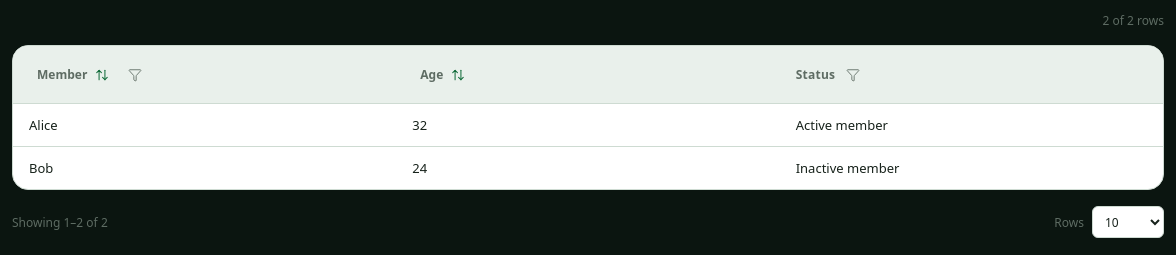
Test: DataTable › opens, closes, and clears a text filter from its header
This screenshot has width=1176, height=255.
Check: the search field labelled "Filter Member" is not shown
Click the button named "Open filter for Member": (135, 74) [121,60,149,88]
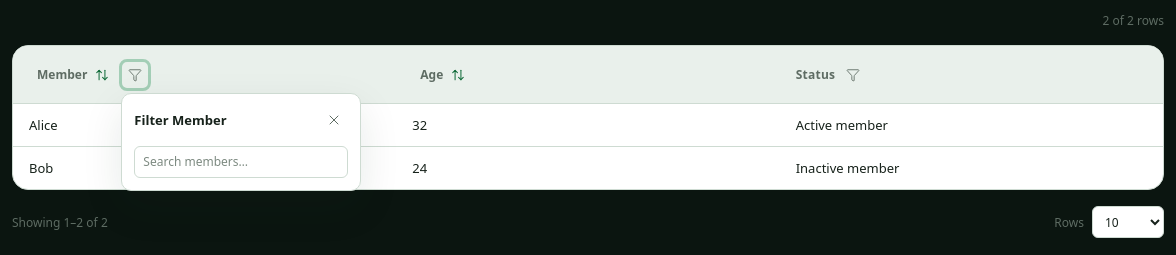
Check: the element "Filter Member" is shown, box [121,92,361,190]
In the search field named "Filter Member": (241, 162) [134,146,348,178], type "alice"
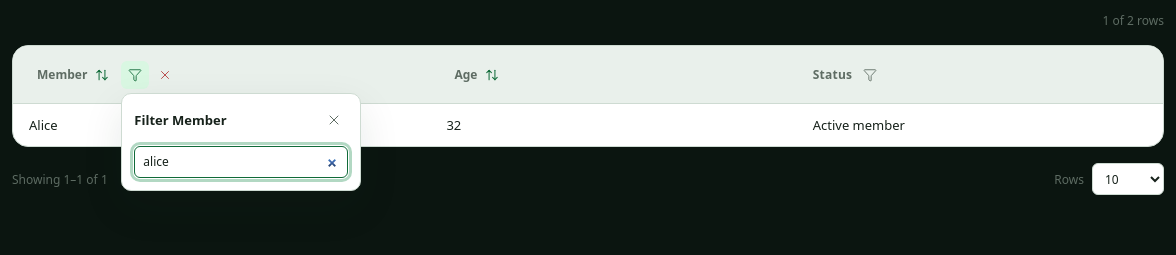
Check: the text "Alice" is shown, box [13,104,430,146]
Check: the text "Bob" is gone
Check: the text "1 of 2 rows" is shown, box [1103,12,1164,29]
Click the button named "Close filter for Member": (135, 74) [121,60,149,88]
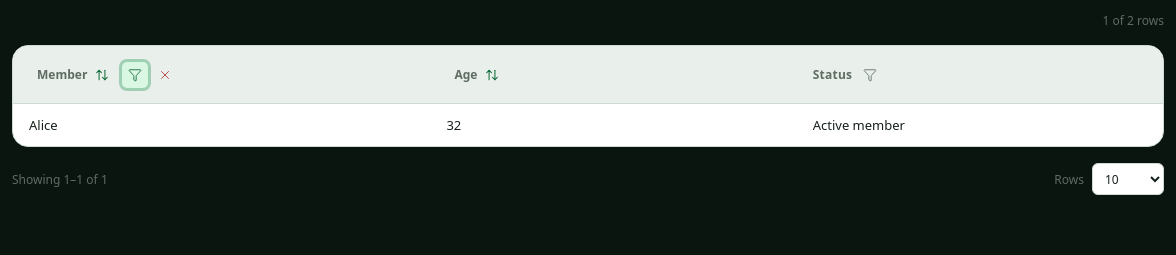
Check: the text "Bob" is not shown
Check: the text "Filter Member" is gone
Click the button named "Clear filter for Member": (165, 74) [151,60,179,88]
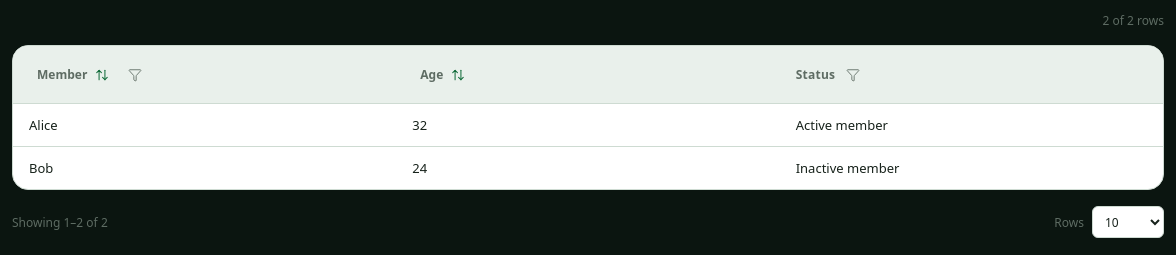
Check: the text "Bob" is shown, box [13,146,396,189]
Check: the text "2 of 2 rows" is shown, box [1103,12,1164,29]
